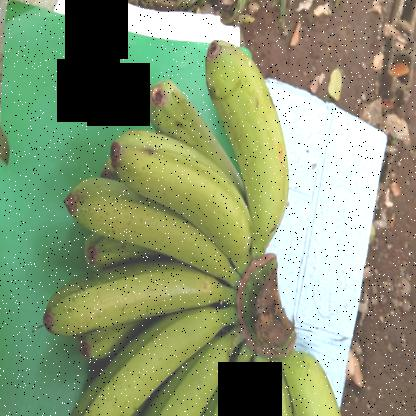freshunripe: (199, 35, 298, 250), (41, 229, 232, 340), (61, 170, 242, 280), (106, 121, 252, 252), (62, 301, 214, 415), (145, 335, 242, 415), (274, 328, 352, 415), (226, 350, 289, 415), (195, 349, 255, 415)
